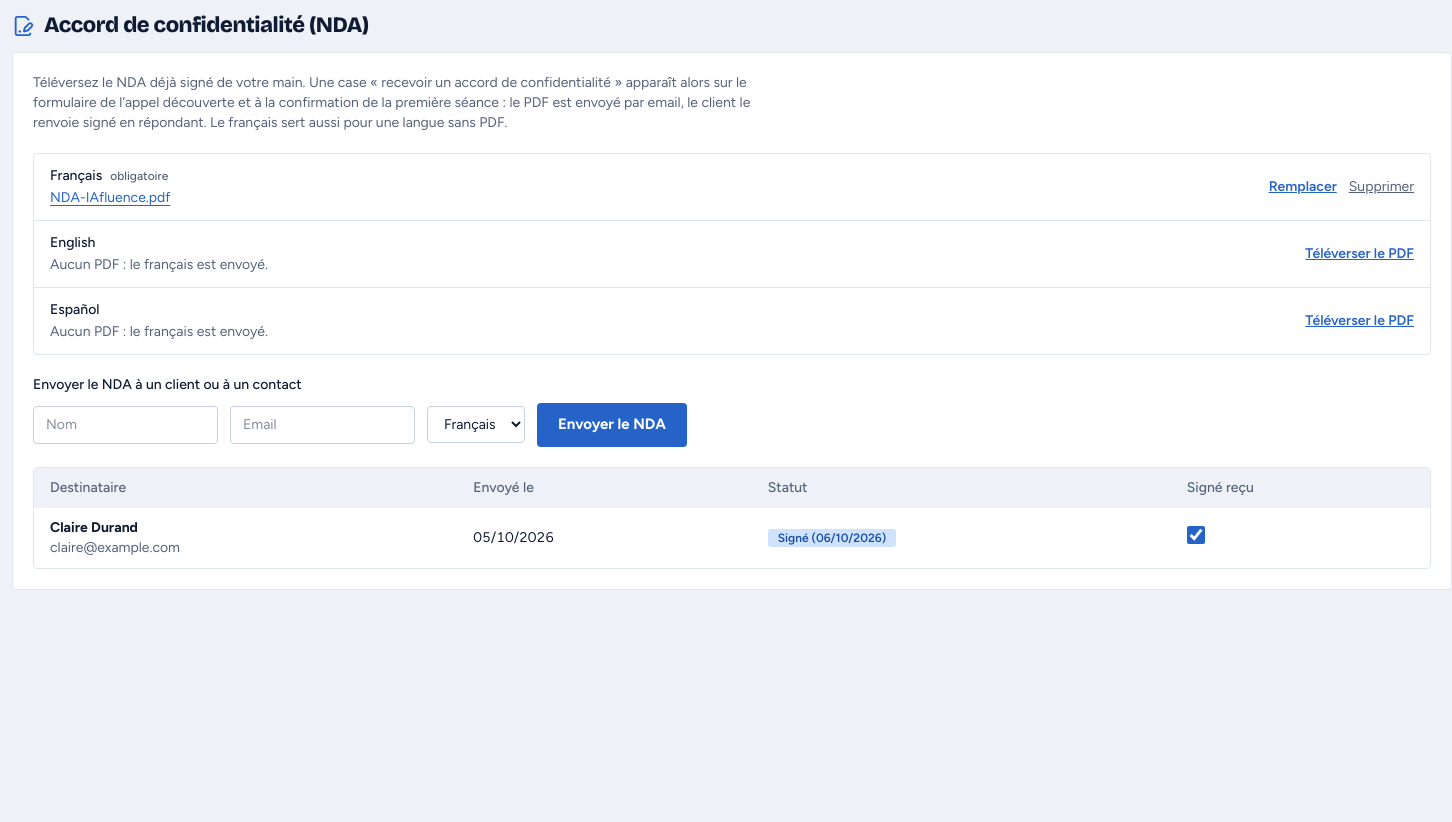
Scenario: NdaAgreement › puts a signed agreement back on hold
Click the checkbox named "NDA signé reçu de Claire Durand" at (1196,534), box [1187,526,1205,544]
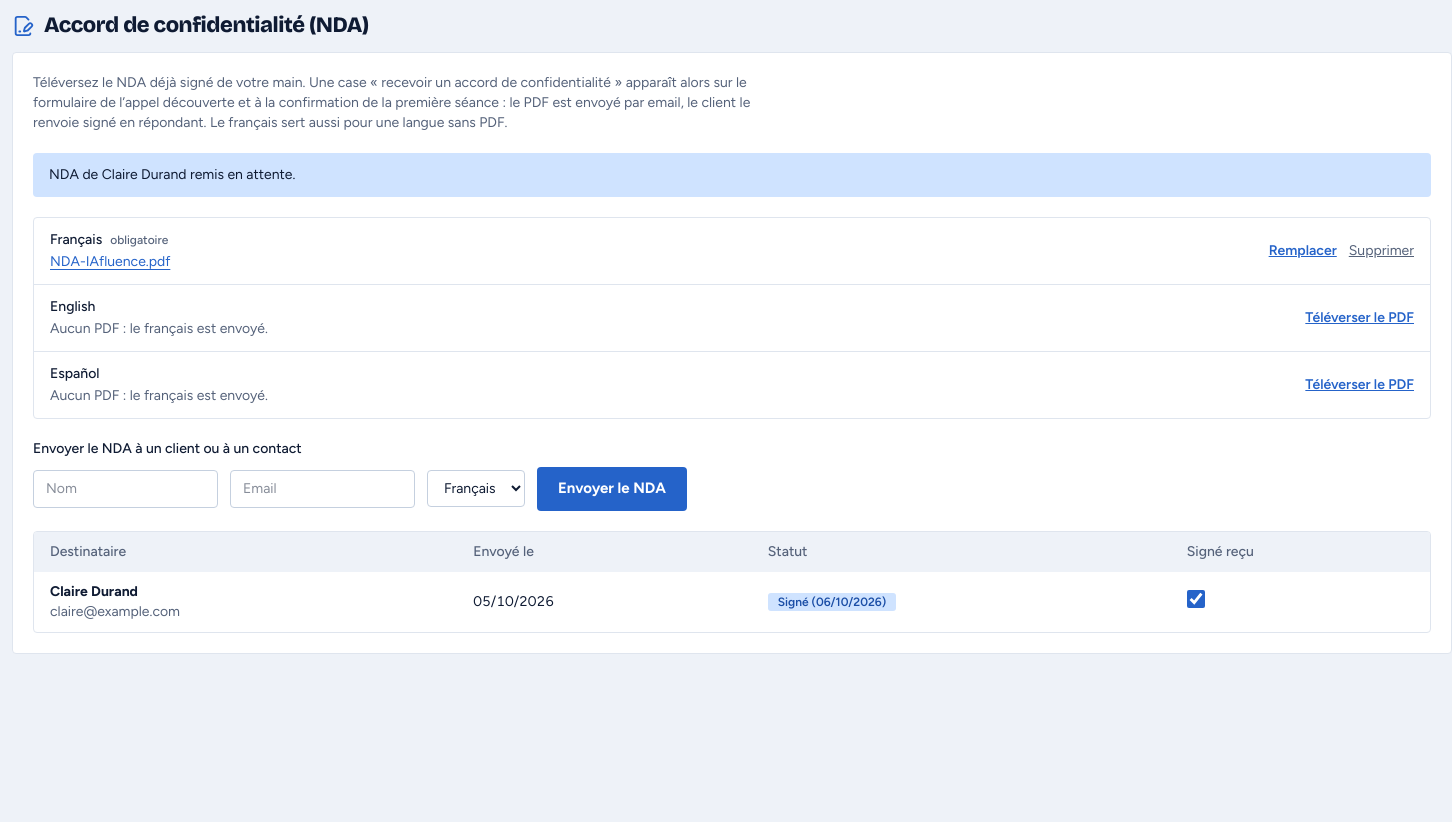
Now the message reads "NDA de Claire Durand remis en attente.", box [49,166,295,182]
